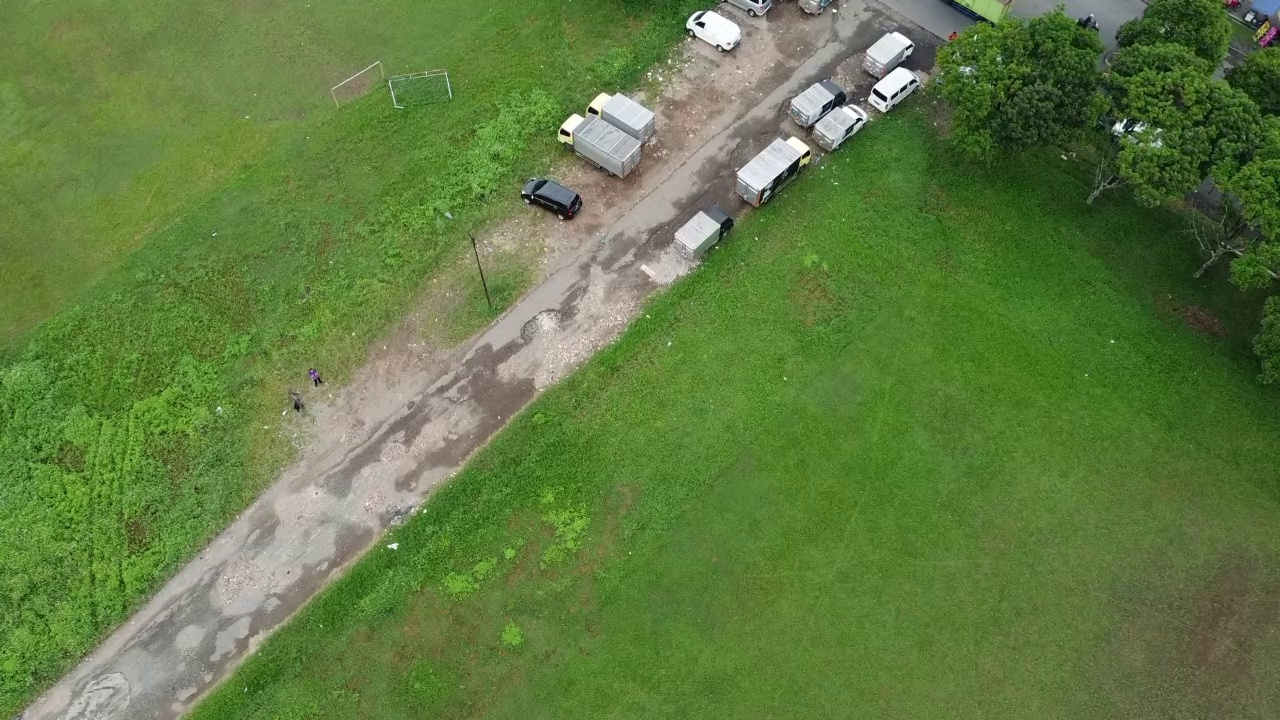mobil: (518, 168, 587, 223), (867, 59, 925, 115), (682, 8, 745, 55)
